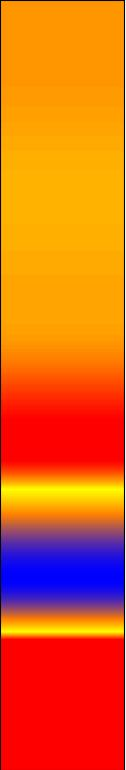Thermal Runaway: (5, 4, 120, 518), (6, 625, 119, 765)
critical: (8, 604, 119, 619), (10, 525, 116, 536)
safe: (10, 545, 120, 594)
